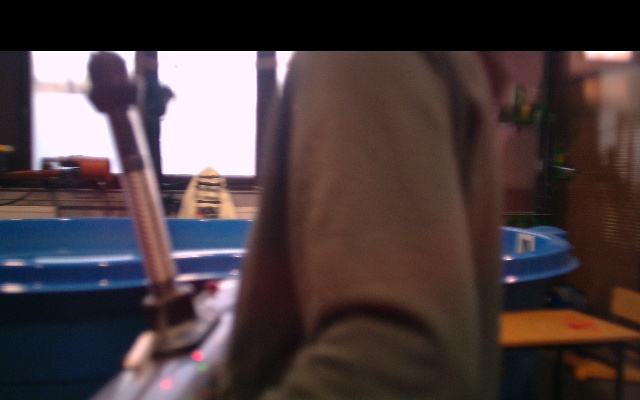black: (120, 161, 178, 293)
